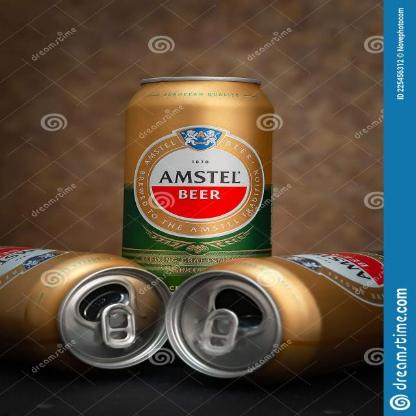Can: (168, 232, 380, 402), (115, 66, 295, 266), (0, 232, 178, 404)
